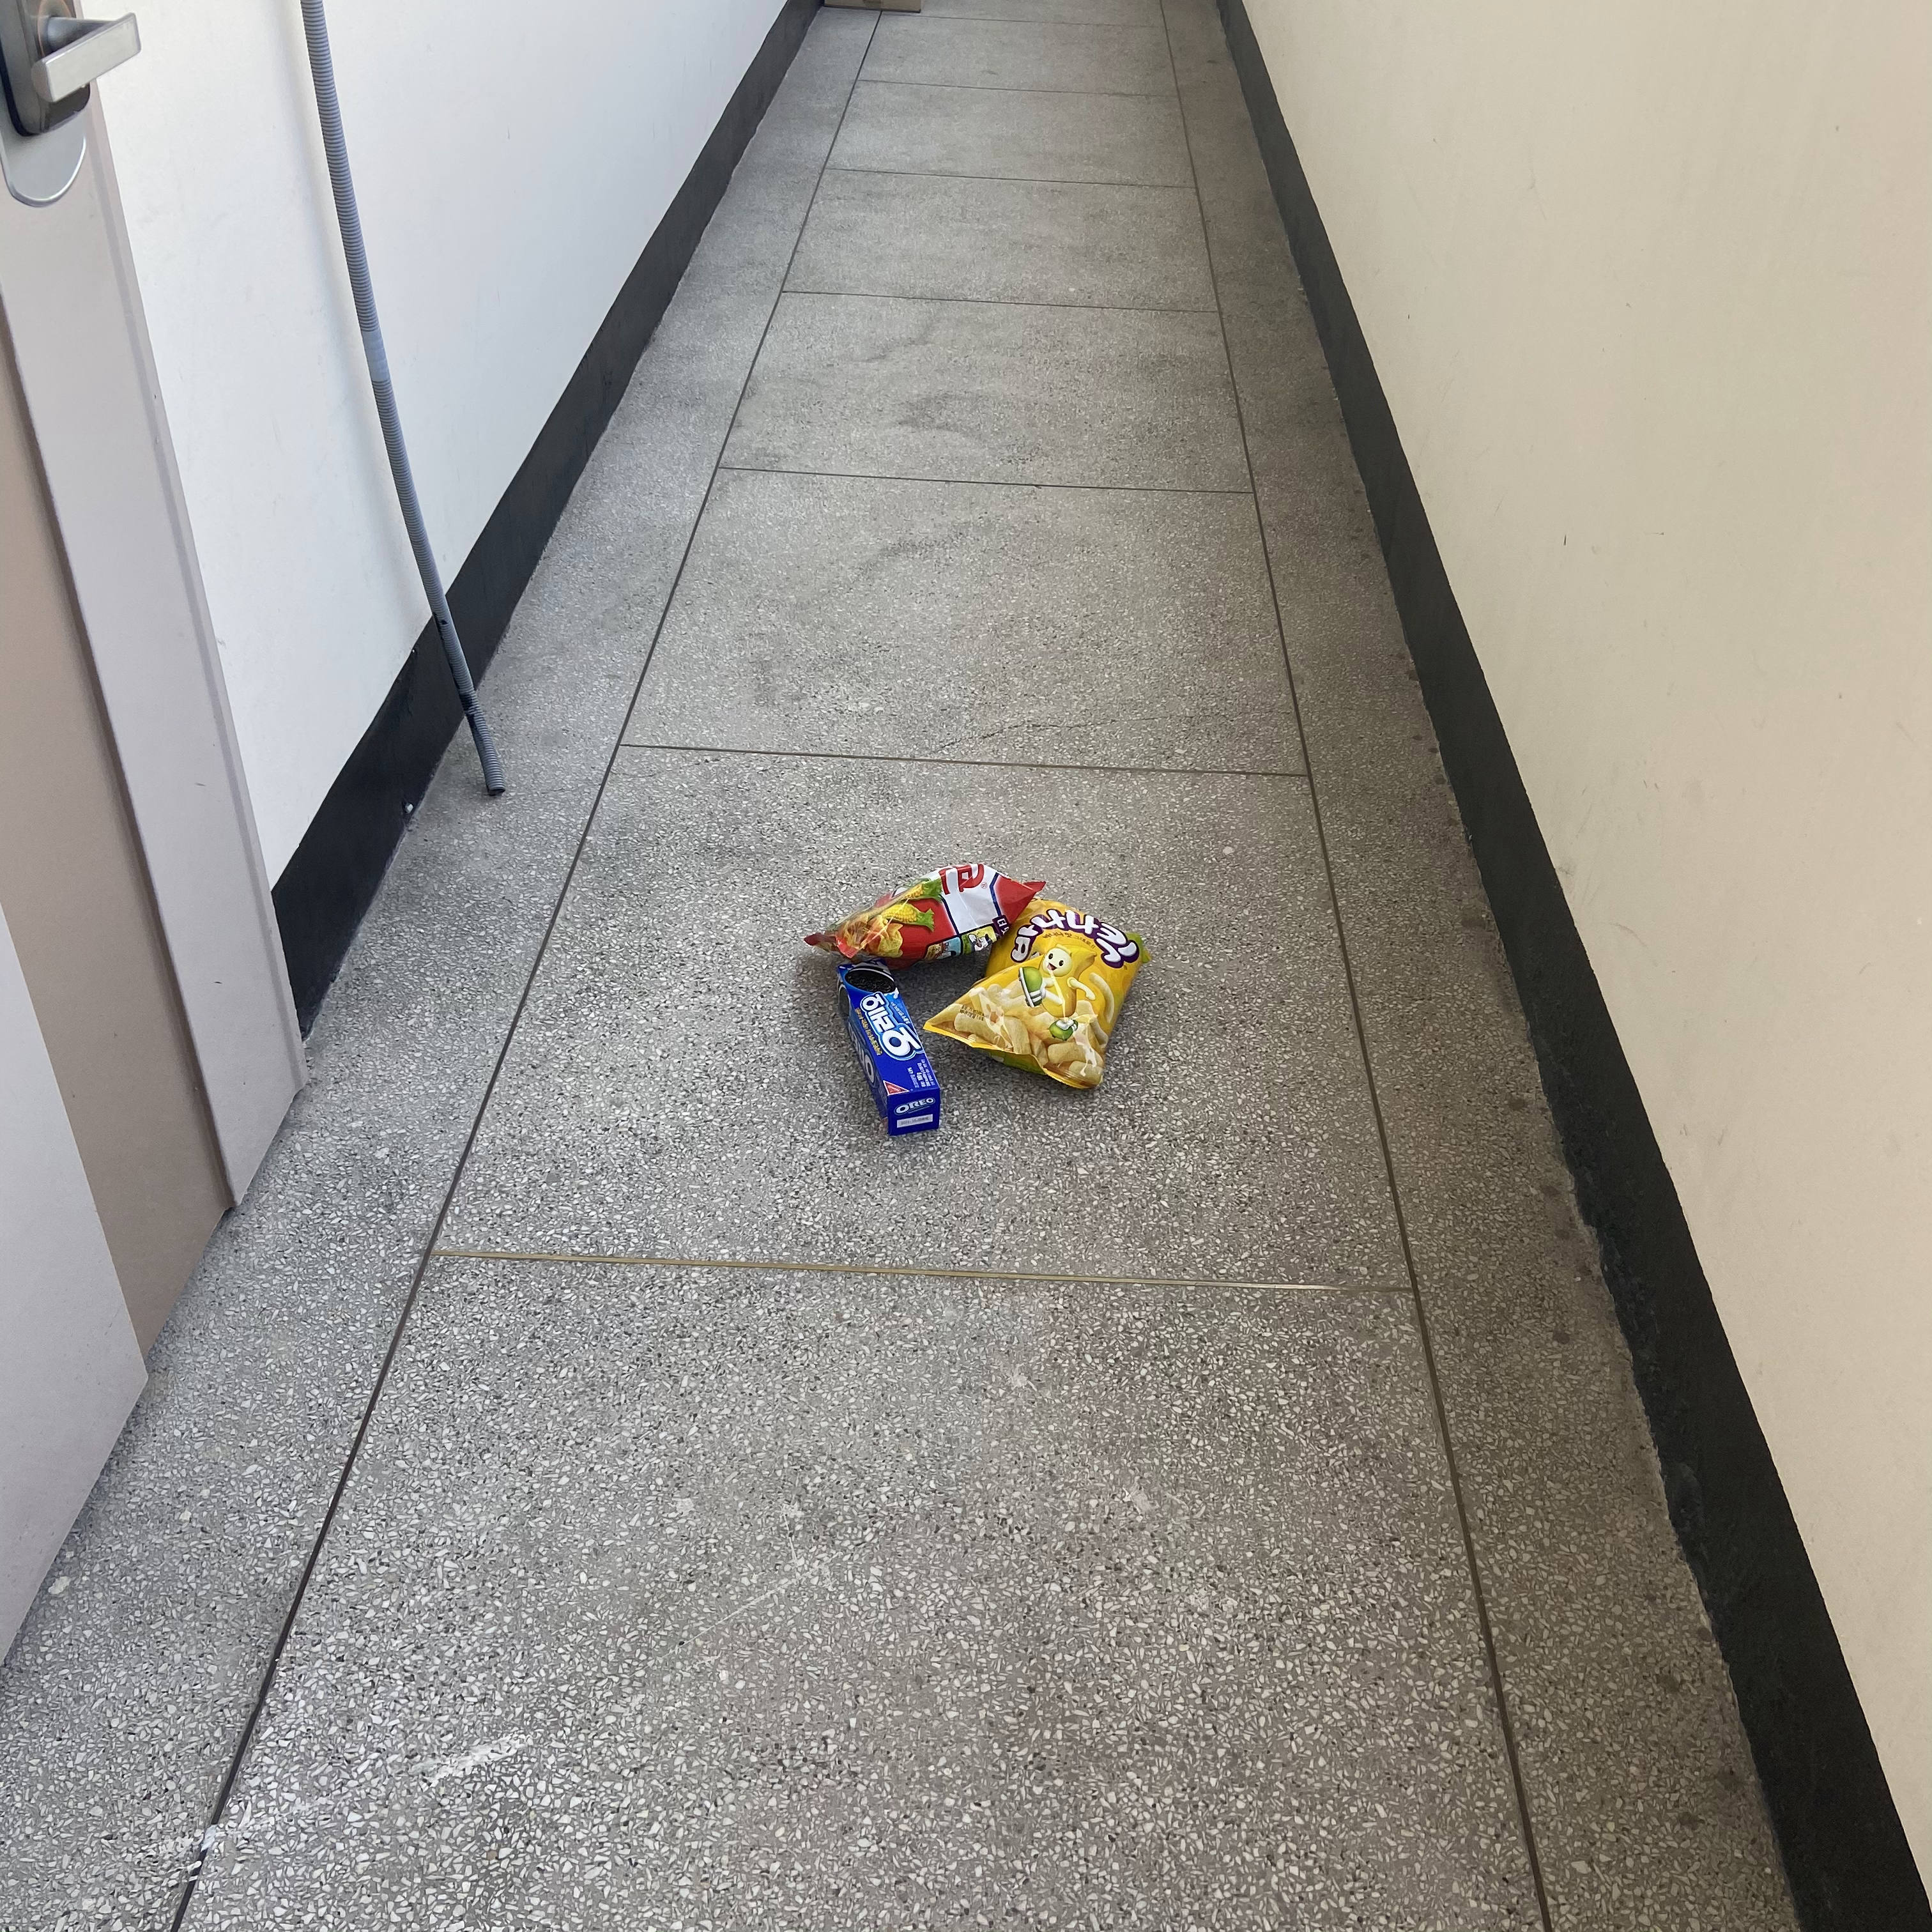banana: (911, 885, 1157, 1108)
ggoggalcon: (786, 849, 1063, 984)
oreo: (821, 948, 955, 1148)
